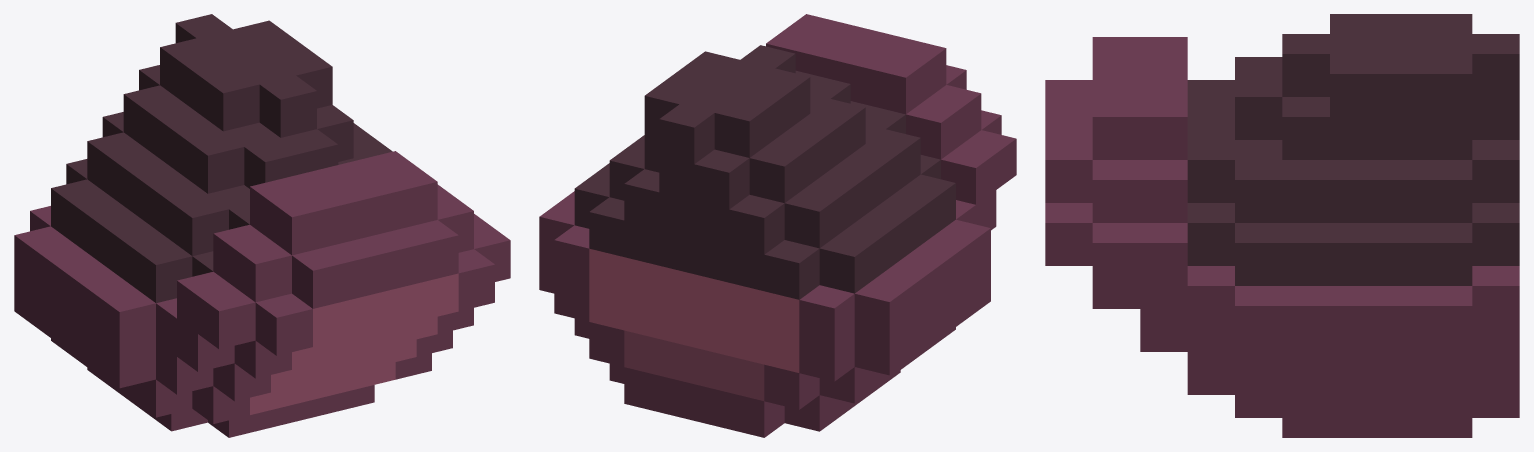
Rendered from boss.glb.
3 views of the same model, side by side, from view 1: azimuth 30°, elevation 25°; view 2: azimuth 150°, elevation 25°; view 3: azimuth 270°, elevation 25° (orthographic). The views are drawn at different scales.
Size of the model in its own units: 10 by 8 by 10.
